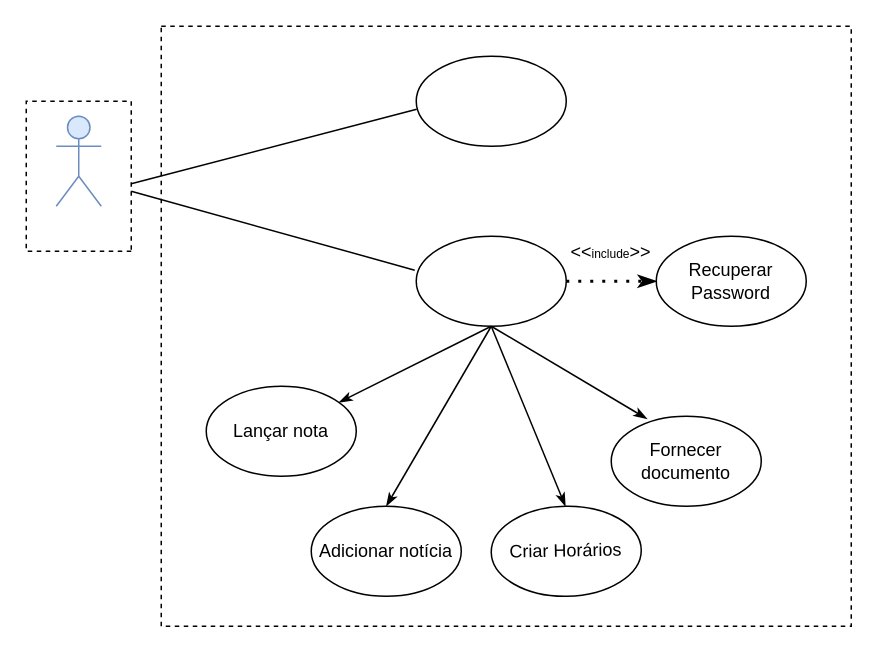
This 879x654 diagram has some shape labels left out. Here are the shapes that lost their labels. From the top down, the centre of each, then its label:
At pixel 490 100: "Criar conta".
At pixel 78 160: "Secretaria".
At pixel 490 280: "Efetuar Login".
